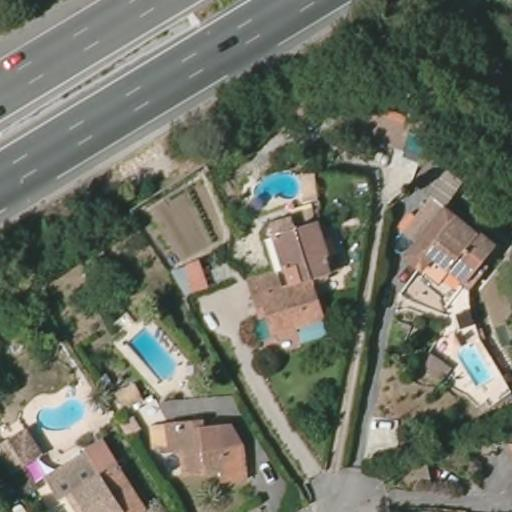pool: (124, 328, 178, 380), (454, 337, 495, 386), (246, 170, 305, 204), (31, 397, 87, 431)
